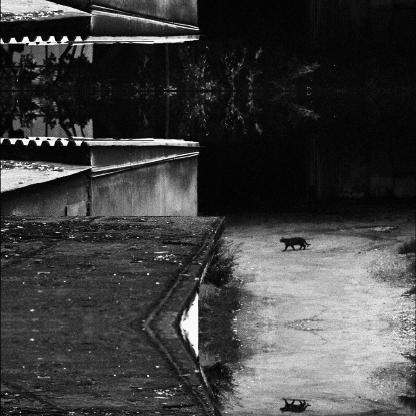Cat: (280, 236, 310, 252), (280, 398, 310, 414)
